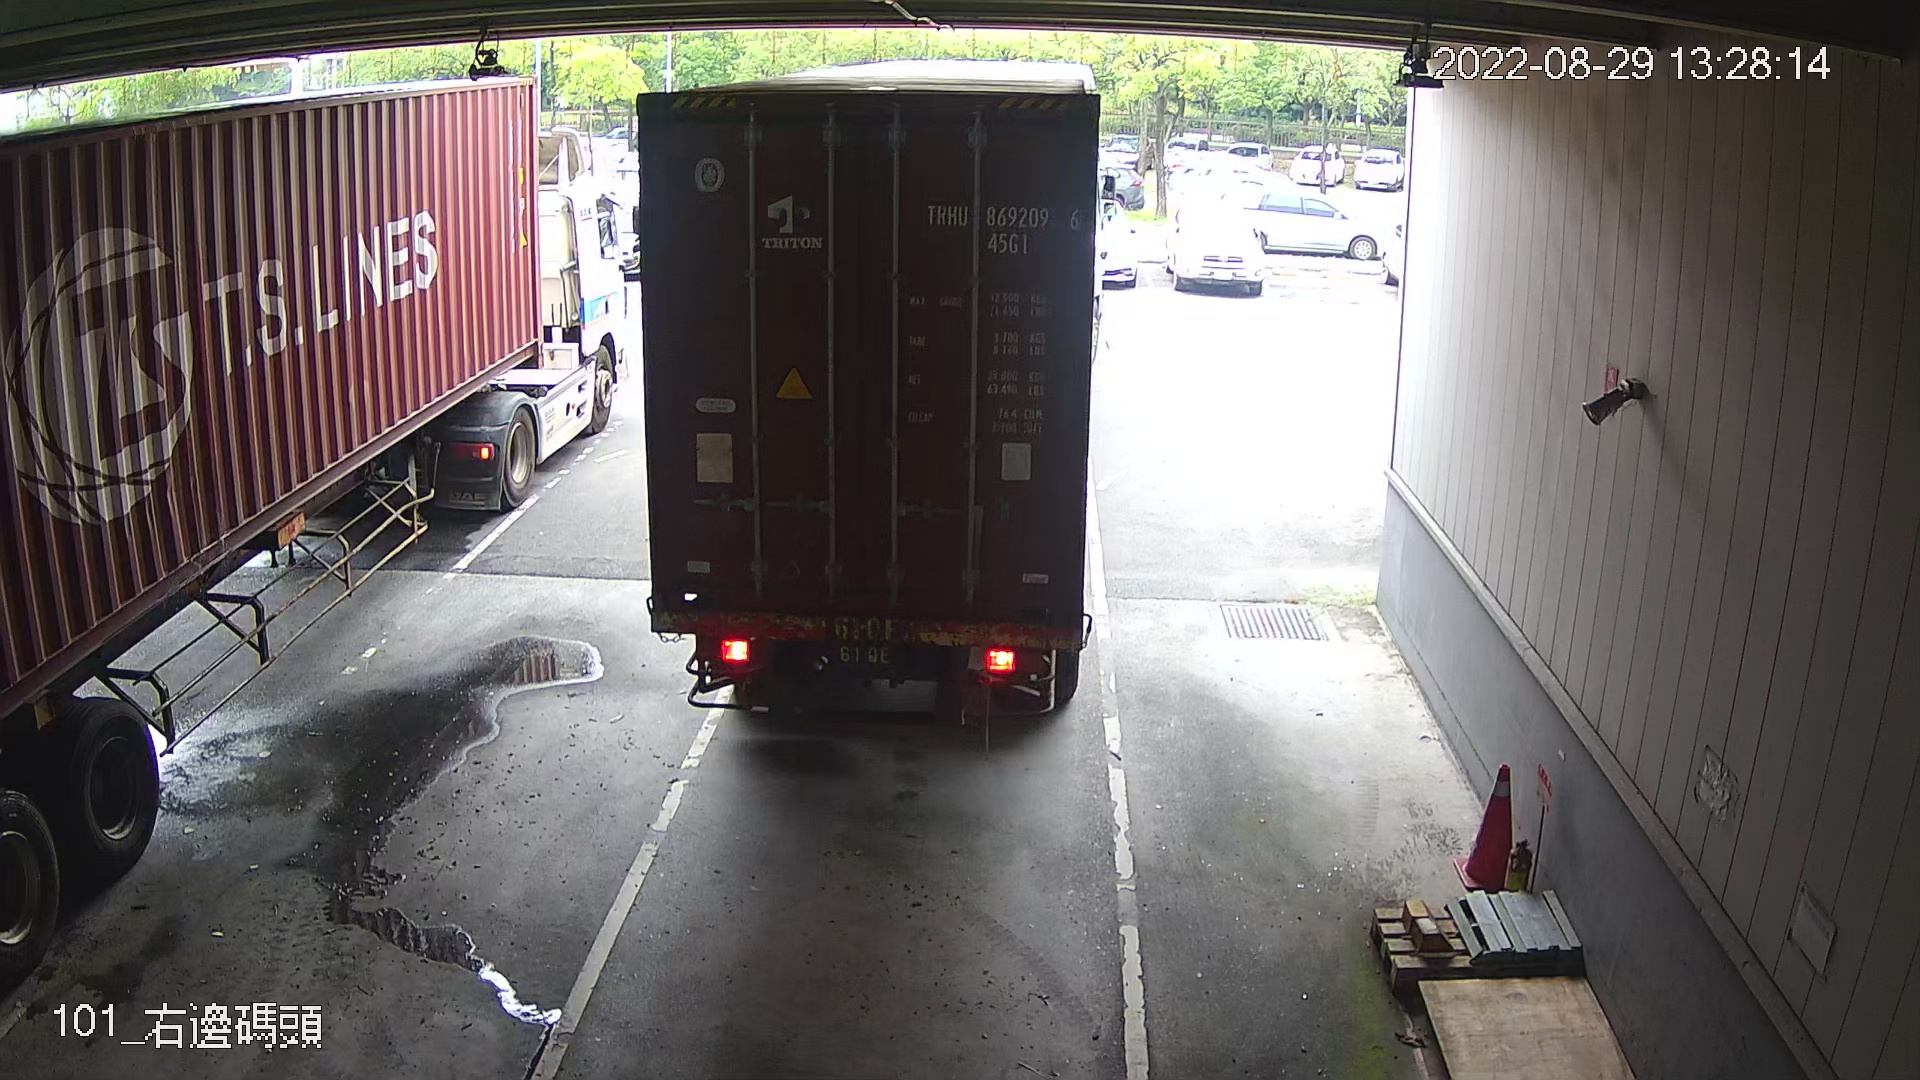container: (913, 193, 1088, 262)
